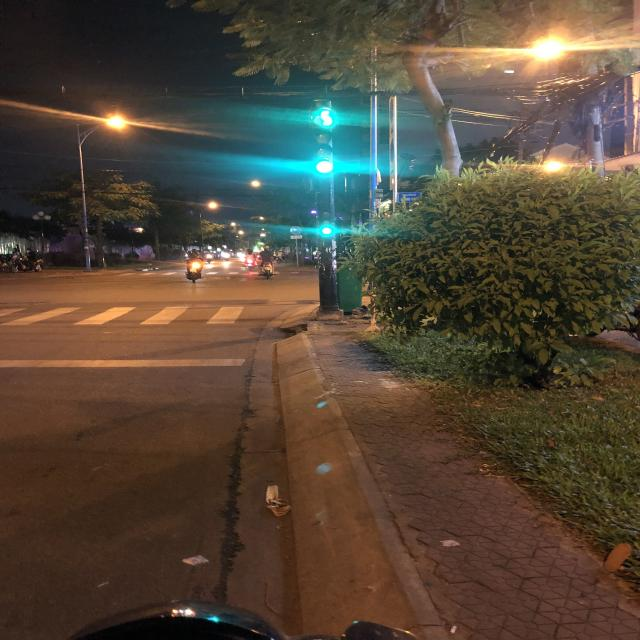Green: (316, 130, 336, 182), (320, 209, 338, 243)
